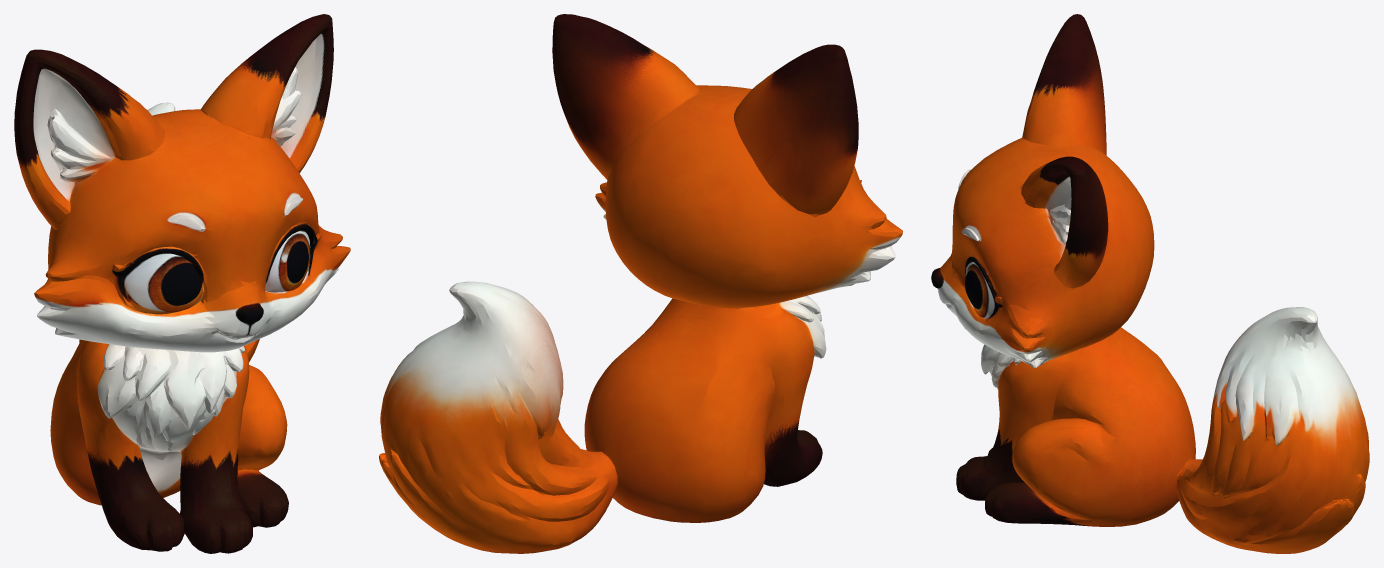
The model's file is fox.glb.
3 renders of one model, left to right at view 1: azimuth 30°, elevation 25°; view 2: azimuth 150°, elevation 25°; view 3: azimuth 270°, elevation 25°, orthographic. The views are drawn at different scales.
Parts seen in each view (by area): view 1: Mesh; view 2: Mesh; view 3: Mesh.
Boxes of the visible parts, left/top/right/bottom form: Mesh: left=14, top=14, right=350, bottom=553; Mesh: left=379, top=14, right=902, bottom=553; Mesh: left=931, top=14, right=1369, bottom=553.
Size of the model in its own units: 1.5 by 1.84 by 1.73.
Materials: 1 (1 with a texture image).
